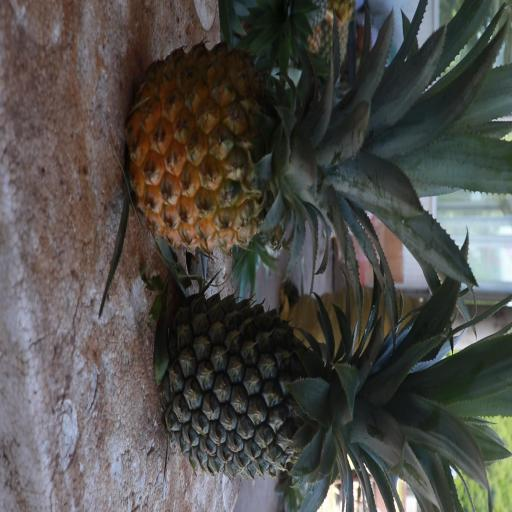Pineapple - v8 v1: (132, 52, 442, 252)
